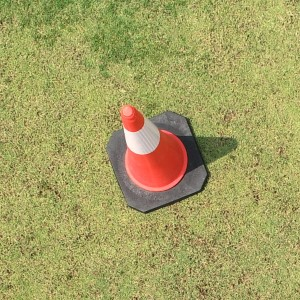traffic cone: (106, 105, 208, 214)
